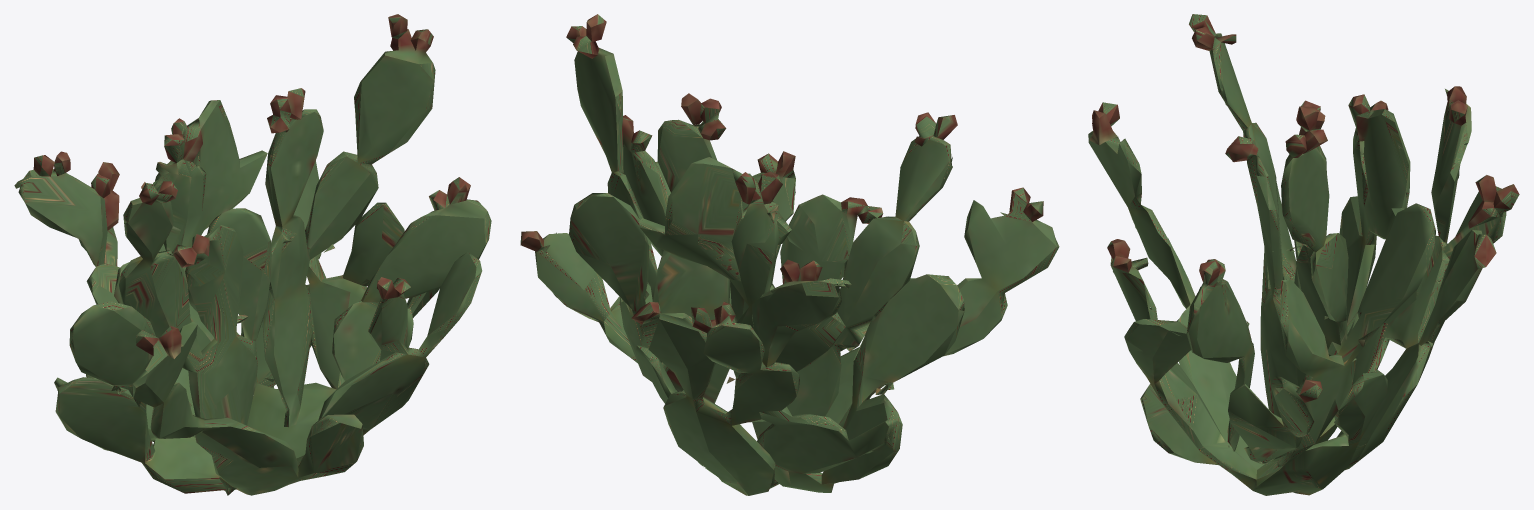
Rendered from prickly-pear-cactus.glb.
3 views of the same model, side by side, from view 1: azimuth 30°, elevation 25°; view 2: azimuth 150°, elevation 25°; view 3: azimuth 270°, elevation 25° (orthographic). The views are drawn at different scales.
Parts seen in each view (by area): view 1: world; view 2: world; view 3: world.
Part boxes in pixels (bbox=[...]): world: bbox=[14, 14, 491, 495]; world: bbox=[520, 14, 1059, 495]; world: bbox=[1088, 14, 1519, 495].
Bounding box in the file's own units: 0.991 × 0.9634 × 0.8018.
Materials: 1 (1 with a texture image).
